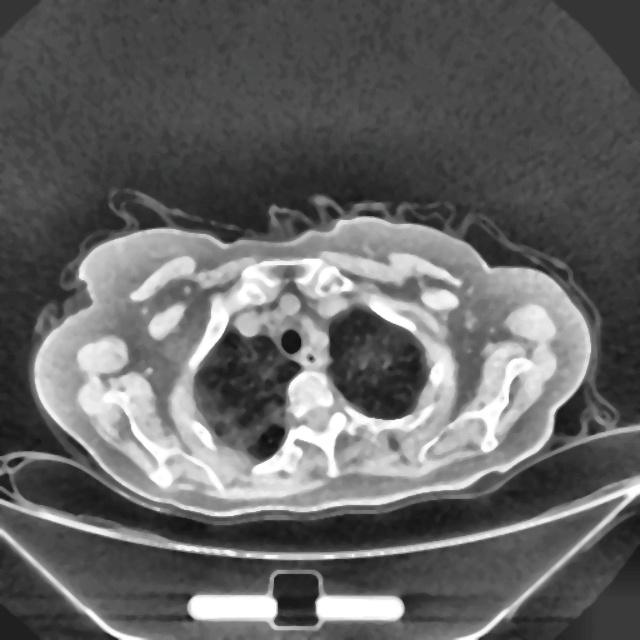covid: (31, 196, 597, 524)
